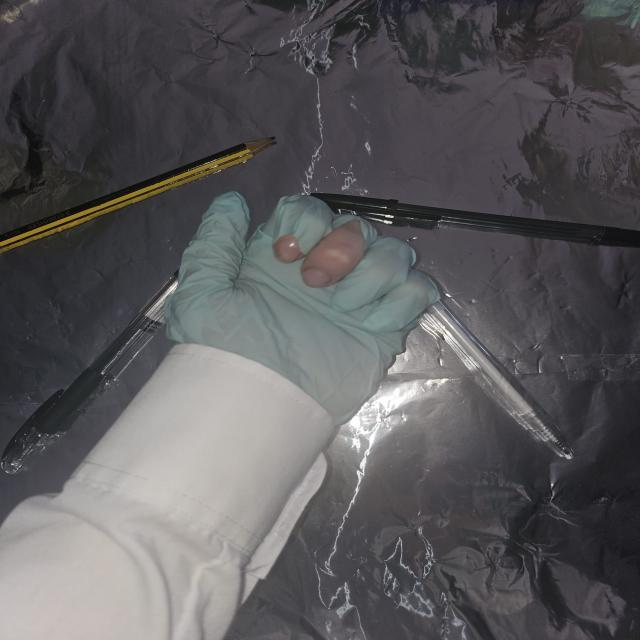gloves_damaged: (161, 186, 451, 427)
